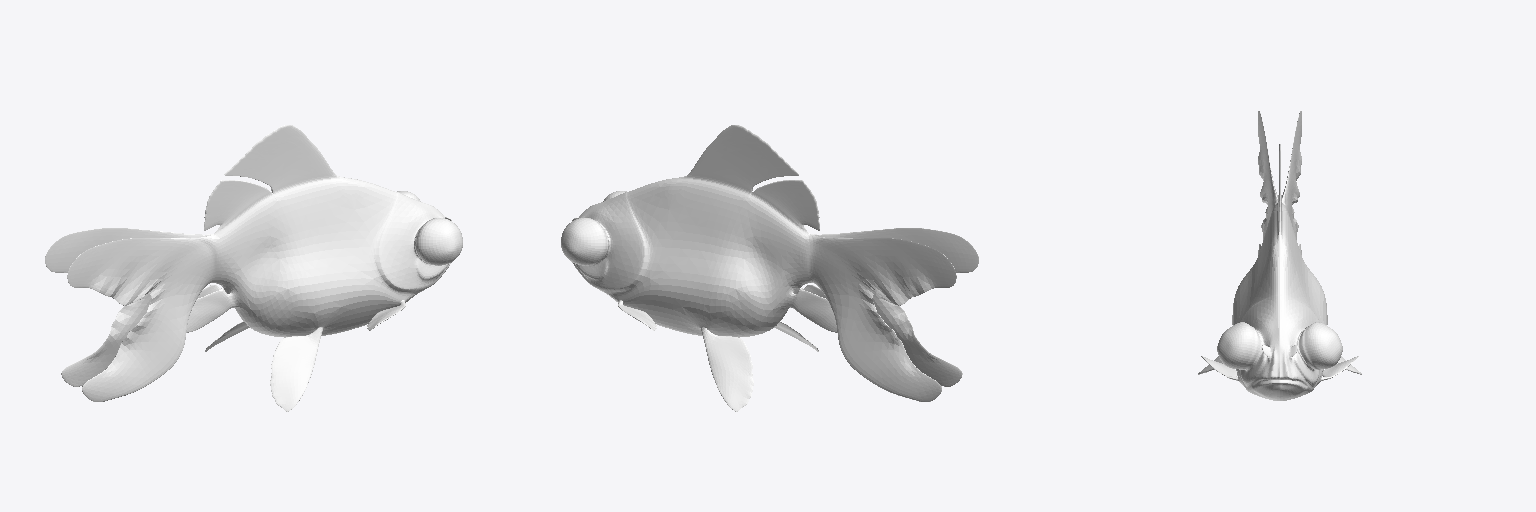
File: blackMoorFish.obj
The picture shows the model from 3 angles: view 1: azimuth 30°, elevation 25°; view 2: azimuth 150°, elevation 25°; view 3: azimuth 270°, elevation 25°; orthographic projection.
Parts seen in each view (by area): view 1: 12990_Black_Moor_Goldfish_v1_l2.001; view 2: 12990_Black_Moor_Goldfish_v1_l2.001; view 3: 12990_Black_Moor_Goldfish_v1_l2.001.
Part boxes in pixels (x1,y1,x2,y2): 12990_Black_Moor_Goldfish_v1_l2.001: (45,125,462,411); 12990_Black_Moor_Goldfish_v1_l2.001: (561,125,978,411); 12990_Black_Moor_Goldfish_v1_l2.001: (1198,111,1361,400).
Size of the model in its own units: 7.77 by 4.59 by 2.78.